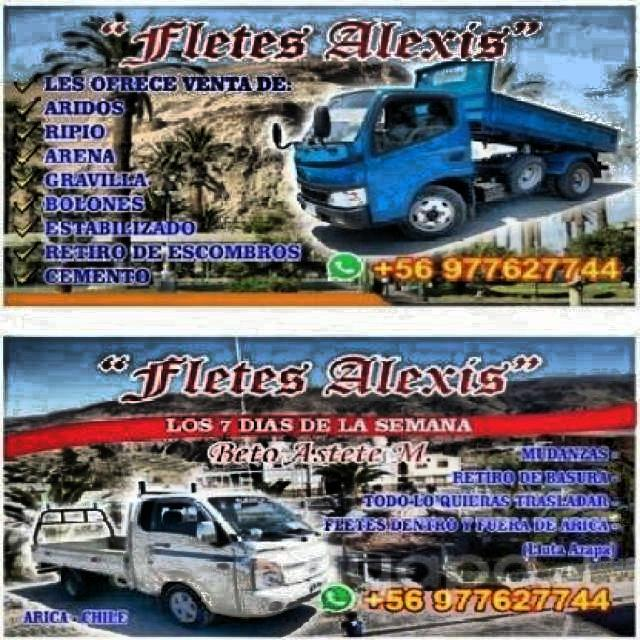dump_truck: (247, 57, 618, 239)
